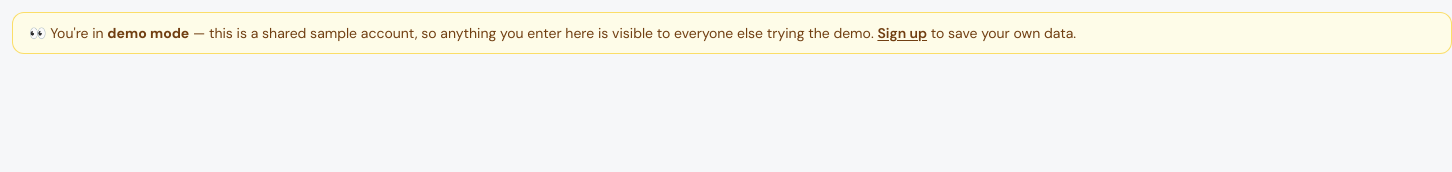
Test: DemoBanner sign-up link › signs out and lands on the signup form
Click the link "Sign up" at x=902, y=33, box [877,24,927,42]
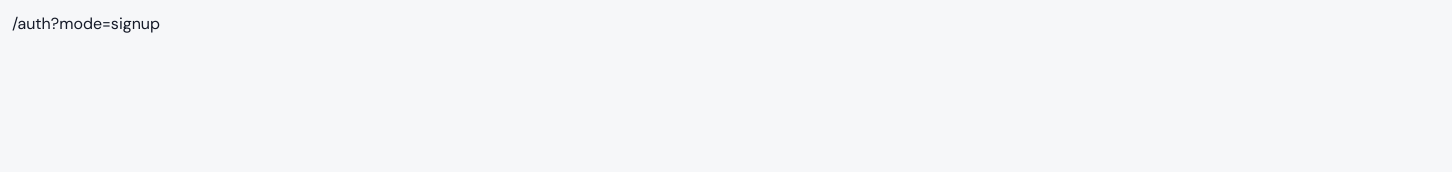
Expected: the text with test id "destination" reads "/auth?mode=signup", [12,13,160,34]
